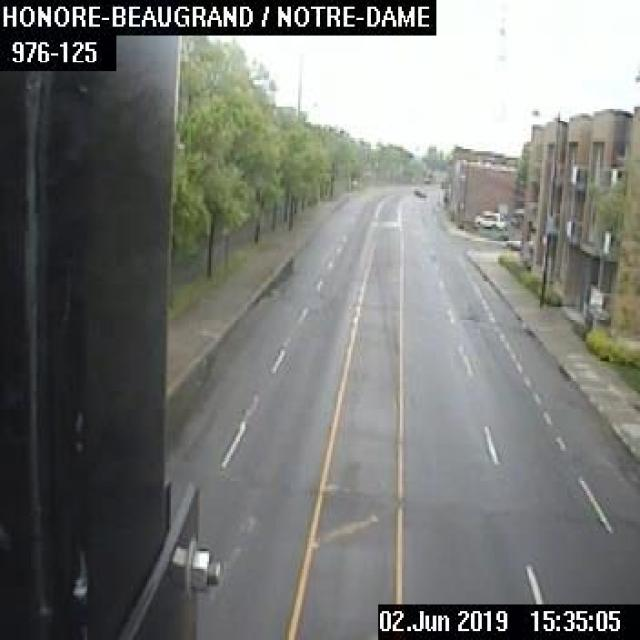vehicle: (473, 209, 504, 229), (411, 186, 426, 196)
